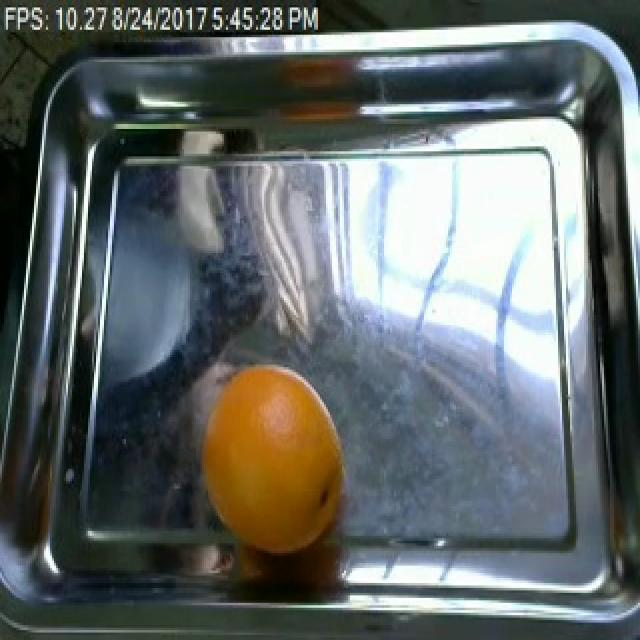Fruit: (194, 352, 350, 561)
